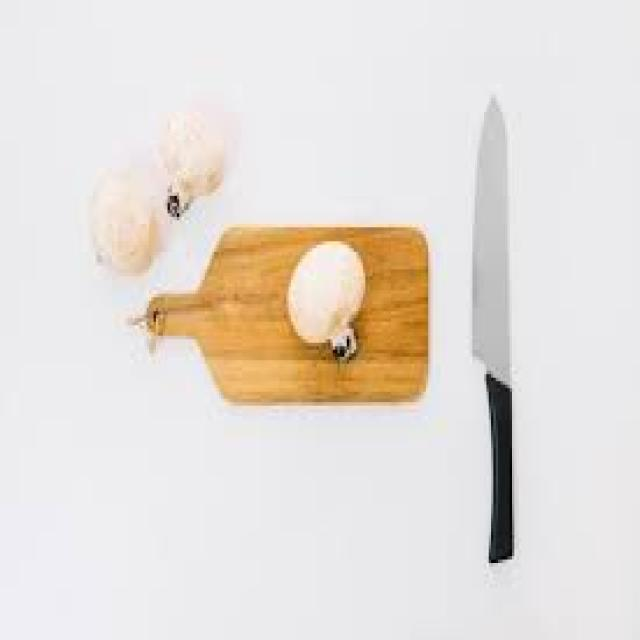Knife: (470, 91, 512, 563)
